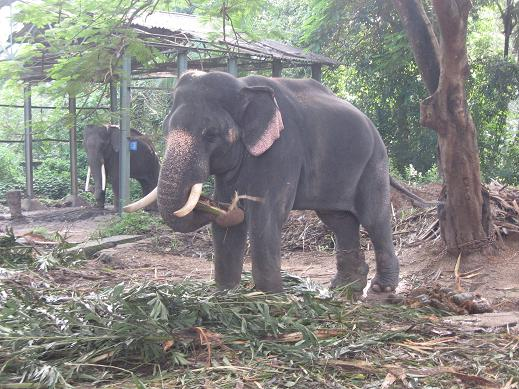Indian Elephant: (122, 58, 413, 297), (63, 114, 168, 232)
